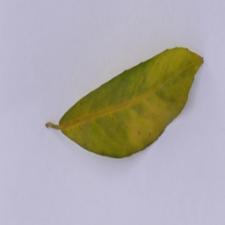Greening: (66, 44, 209, 163)
